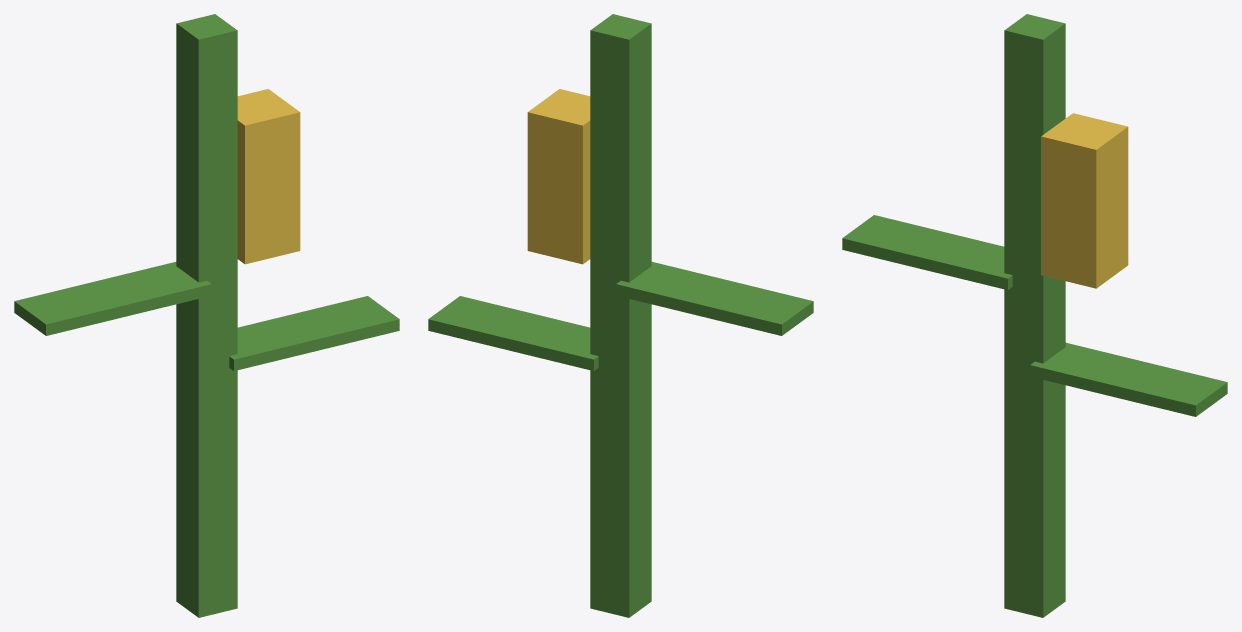
The model's file is crop_corn.glb.
3 views of the same model, side by side, from view 1: azimuth 30°, elevation 25°; view 2: azimuth 150°, elevation 25°; view 3: azimuth 330°, elevation 25° (orthographic).
Visible parts, largest first — view 1: crop_corn; view 2: crop_corn; view 3: crop_corn.
Part boxes in pixels (left/top/right/bottom): crop_corn: left=14, top=14, right=399, bottom=617; crop_corn: left=428, top=14, right=813, bottom=617; crop_corn: left=842, top=14, right=1227, bottom=617.
Size of the model in its own units: 0.64 by 1 by 0.1.
